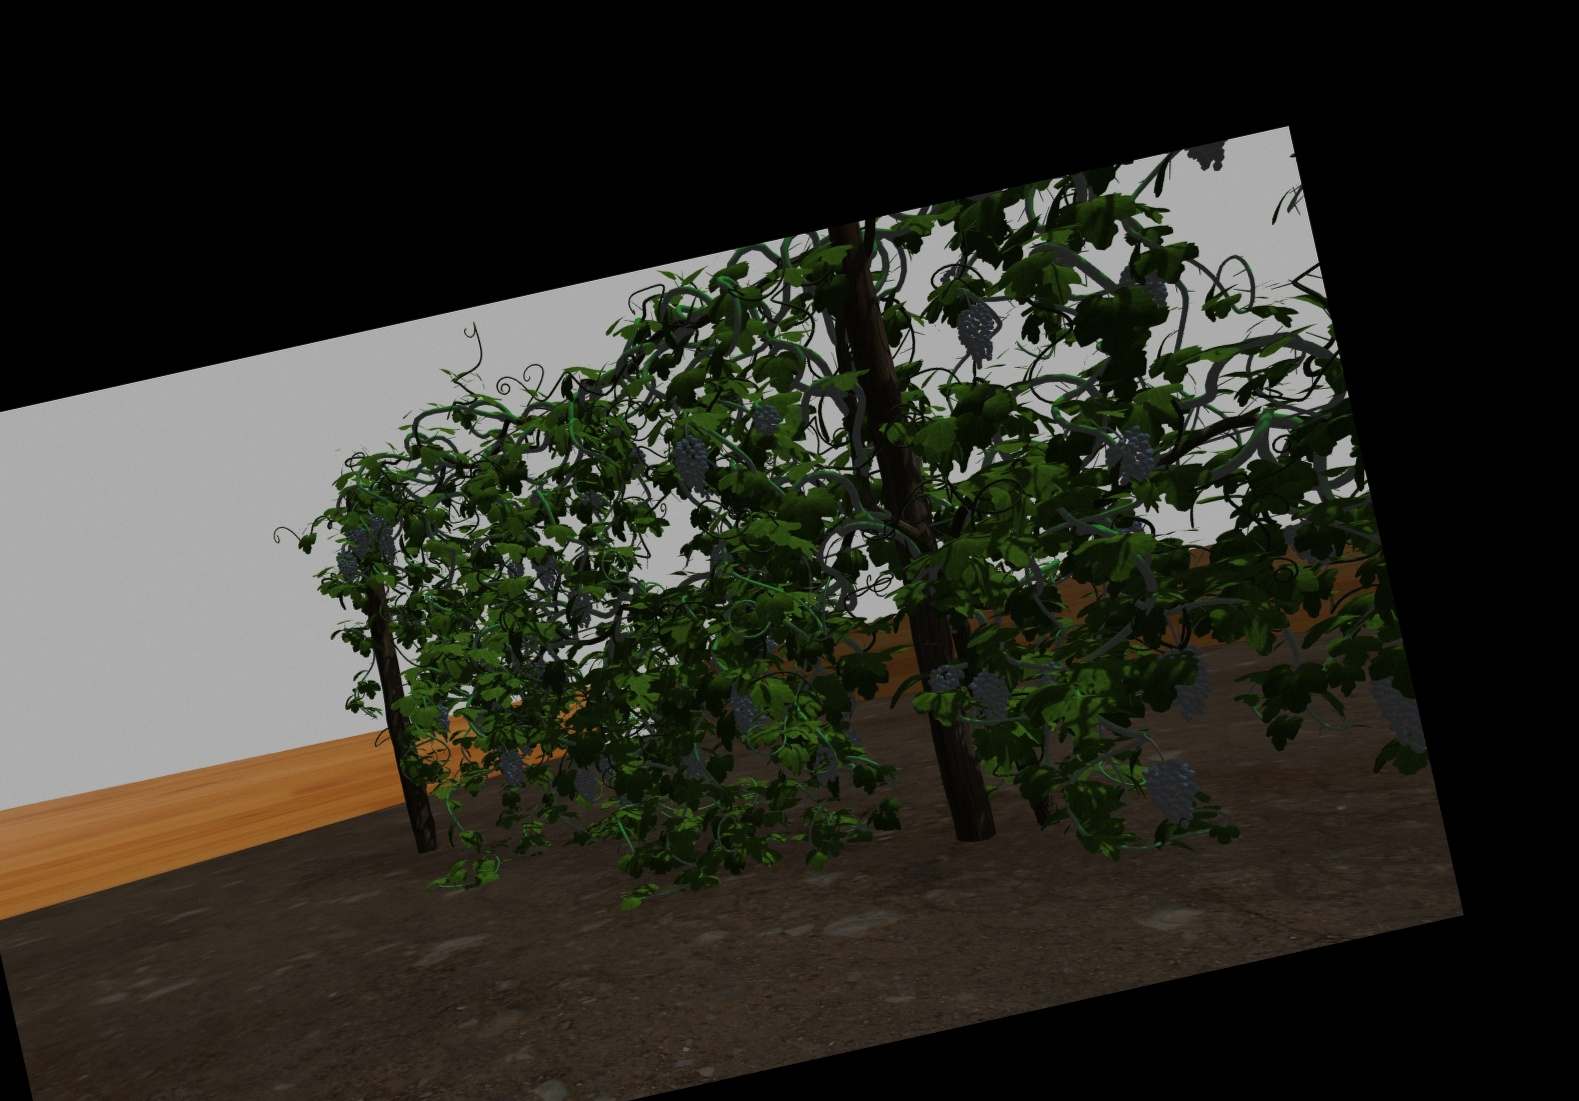grape: (1375, 670, 1416, 760), (1163, 646, 1212, 718), (1147, 759, 1199, 828), (1103, 426, 1154, 482), (957, 302, 998, 368), (672, 435, 709, 498), (973, 670, 1010, 723), (732, 694, 764, 732), (499, 750, 526, 788), (812, 746, 837, 784), (927, 664, 963, 691), (532, 549, 557, 586), (569, 588, 592, 628), (574, 768, 599, 804), (754, 404, 780, 435), (347, 525, 368, 558), (682, 747, 706, 775), (337, 550, 358, 578), (378, 534, 397, 562), (599, 753, 616, 783), (581, 487, 604, 507), (434, 703, 450, 730), (506, 559, 526, 577)
